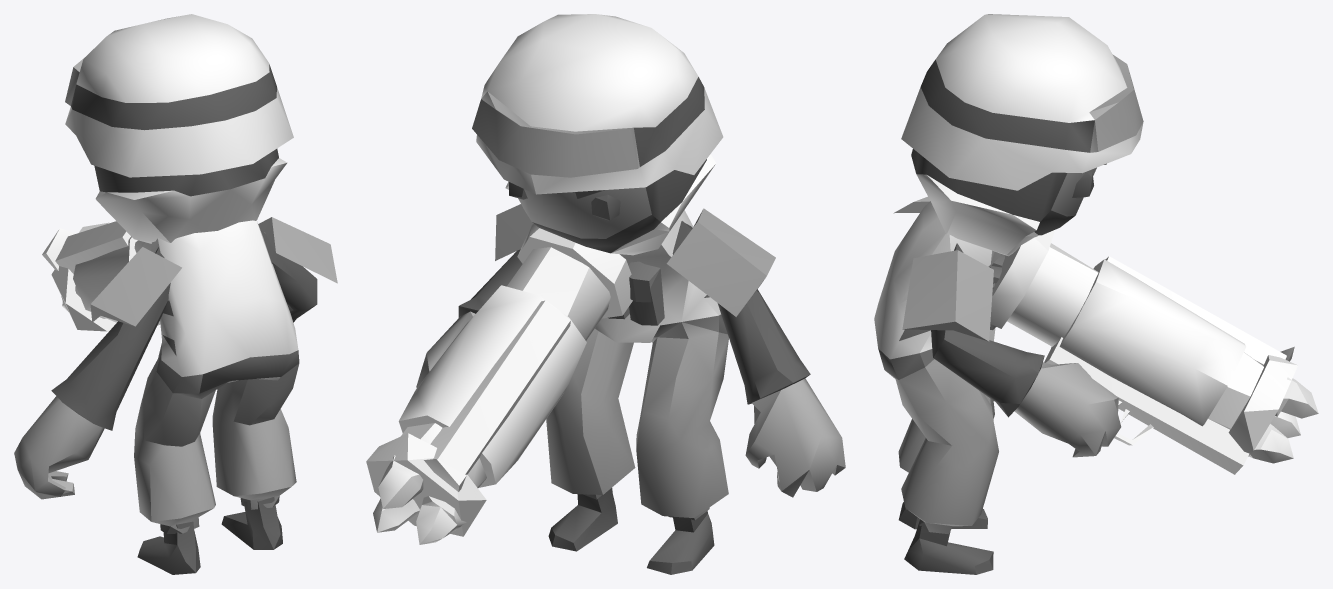
File: ruby_lancer.glb
3 renders of one model, left to right at view 1: azimuth 30°, elevation 25°; view 2: azimuth 150°, elevation 25°; view 3: azimuth 270°, elevation 25°, orthographic. The views are drawn at different scales.
Parts seen in each view (by area): view 1: Body; view 2: Body; view 3: Body.
Boxes of the visible parts, x1,y1,x2,y2 form: Body: (14, 14, 337, 574); Body: (366, 14, 845, 574); Body: (874, 14, 1318, 574).
Size of the model in its own units: 1.21 by 1.8 by 1.4.
Materials: 2 (1 with a texture image).
